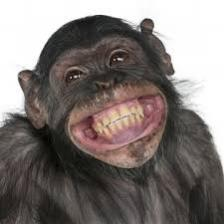monkey: (0, 18, 224, 224)
